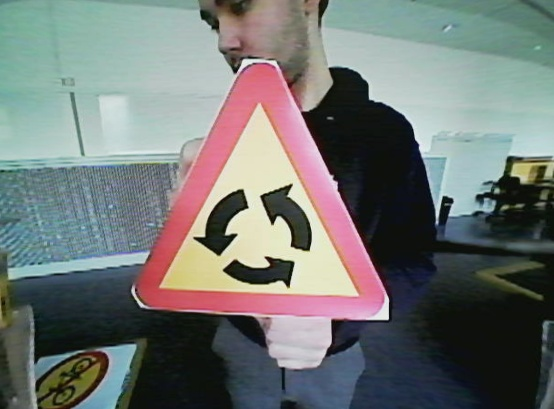roundabout_warning: (124, 52, 399, 333)
